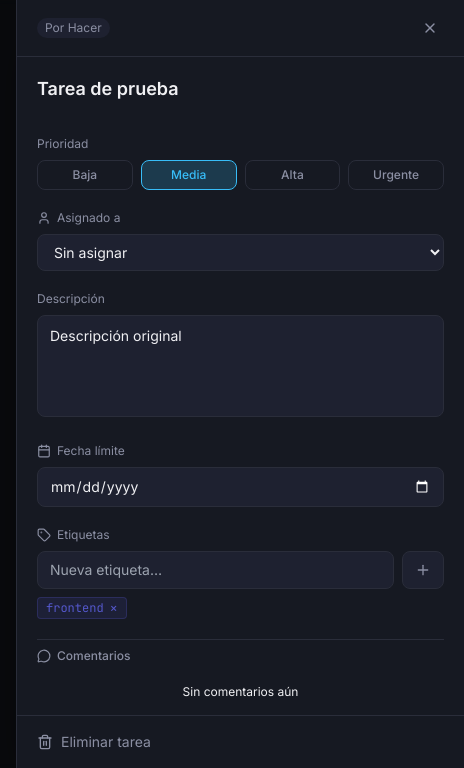
Test case: TaskDetailPanel — asignado › muestra el nombre del asignado al seleccionarlo
The image size is (464, 768).
Select "Ana García (ana@test.com)" in the dropdown: (240, 252) [37,234,444,270]
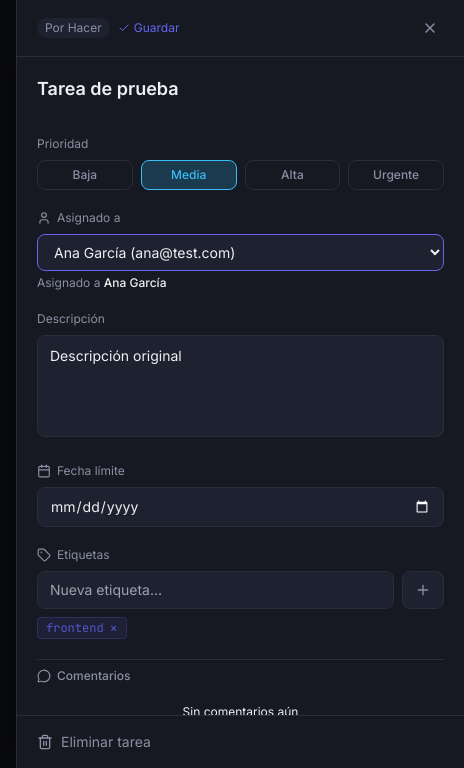
Expected: the text "Ana García" is shown, [104,274,166,290]
